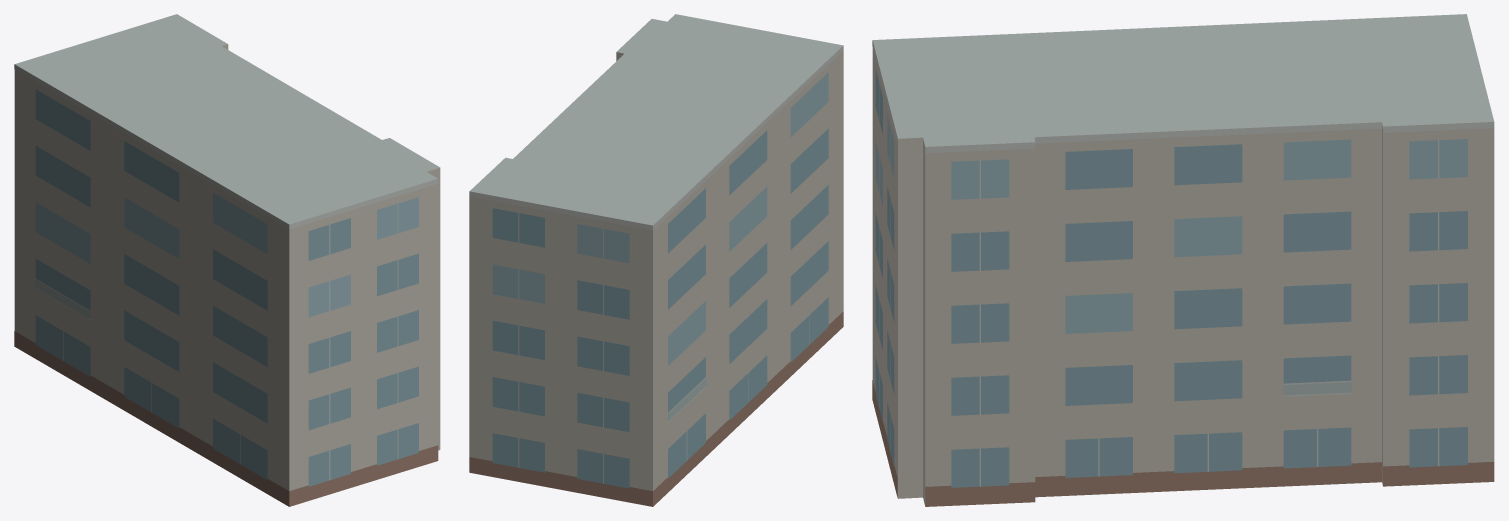
Rendered from survey-upis-32654934.glb.
3 views of the same model, side by side, from view 1: azimuth 30°, elevation 25°; view 2: azimuth 150°, elevation 25°; view 3: azimuth 270°, elevation 25° (orthographic). The views are drawn at different scales.
Visible parts, largest first — view 1: survey-upis-32654934.tmp; view 2: survey-upis-32654934.tmp; view 3: survey-upis-32654934.tmp.
Part boxes in pixels (x1,y1,x2,y2): survey-upis-32654934.tmp: (14,14,440,506); survey-upis-32654934.tmp: (469,14,843,506); survey-upis-32654934.tmp: (872,14,1494,506).
Size of the model in its own units: 11.02 by 13.9 by 21.77.
